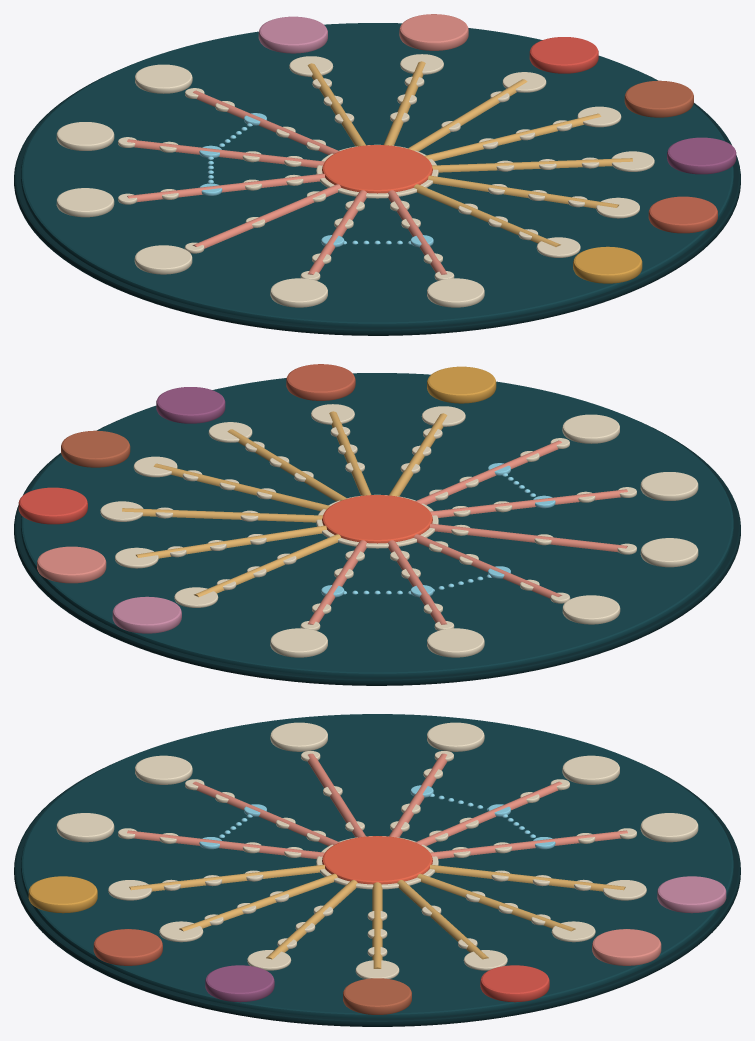
The model's file is board.glb.
3 renders of one model, top to bottom at view 1: azimuth 30°, elevation 25°; view 2: azimuth 150°, elevation 25°; view 3: azimuth 270°, elevation 25°, orthographic.
Visible parts, largest first — view 1: IW_L2_x_board; view 2: IW_L2_x_board; view 3: IW_L2_x_board.
Part boxes in pixels (x1=…): IW_L2_x_board: x1=14, y1=14, x2=740, y2=335; IW_L2_x_board: x1=14, y1=364, x2=740, y2=685; IW_L2_x_board: x1=14, y1=714, x2=740, y2=1026.
Size of the model in its own units: 6.3 by 0.19 by 6.3.
